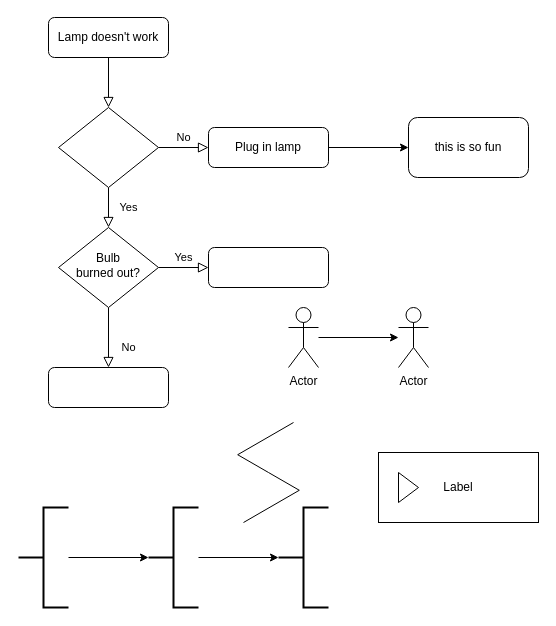
This 556x626 diagram has some shape labels left out. The shapes that lost their labels are listed below. From the top down, each one's centre as x and y in pixels, then its label:
At point 108,147: "Lamp plugged in?".
At point 268,267: "Replace Bulb".
At point 108,387: "Repair Lamp".
